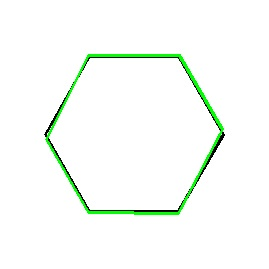line_segment: (44, 54, 225, 214)
